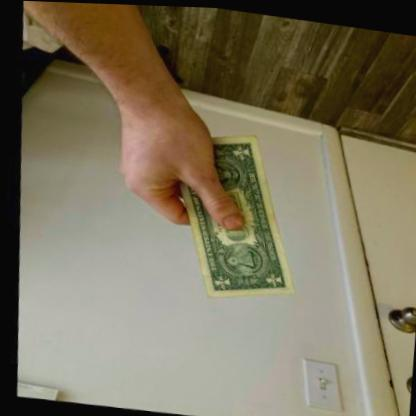one-back: (167, 133, 288, 296)
